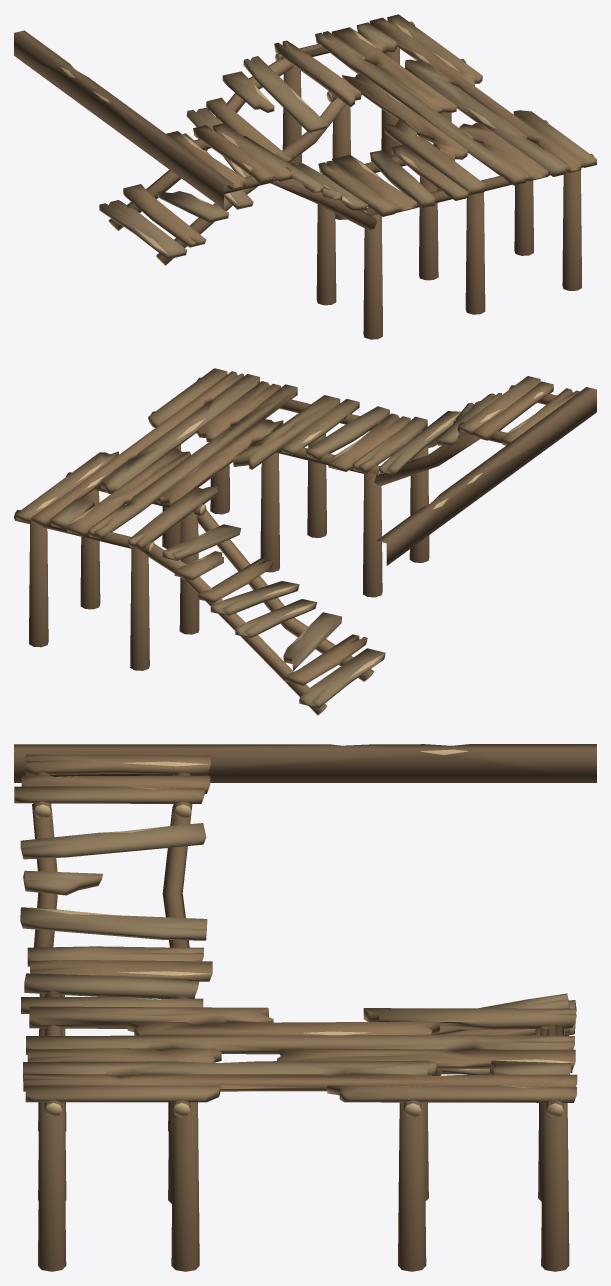
File: rpgpp_av_stairs_interior_01c_3m.gltf
3 views of the same model, one above another, from view 1: azimuth 30°, elevation 25°; view 2: azimuth 150°, elevation 25°; view 3: azimuth 270°, elevation 25° (orthographic). The views are drawn at different scales.
Visible parts, largest first — view 1: rpgpp_av_stairs_interior_01c_3m; view 2: rpgpp_av_stairs_interior_01c_3m; view 3: rpgpp_av_stairs_interior_01c_3m.
Part boxes in pixels (<box>): rpgpp_av_stairs_interior_01c_3m: <box>14,14,596,339</box>; rpgpp_av_stairs_interior_01c_3m: <box>14,368,596,715</box>; rpgpp_av_stairs_interior_01c_3m: <box>14,744,596,1271</box>.
Size of the model in its own units: 0.0622 by 0.0318 by 0.0589.
Materials: 1 (1 with a texture image).
